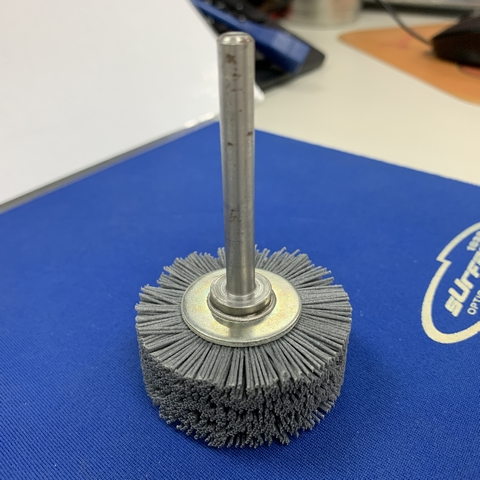Wheel Brush: (129, 27, 359, 439), (131, 31, 361, 441), (160, 26, 360, 455)
